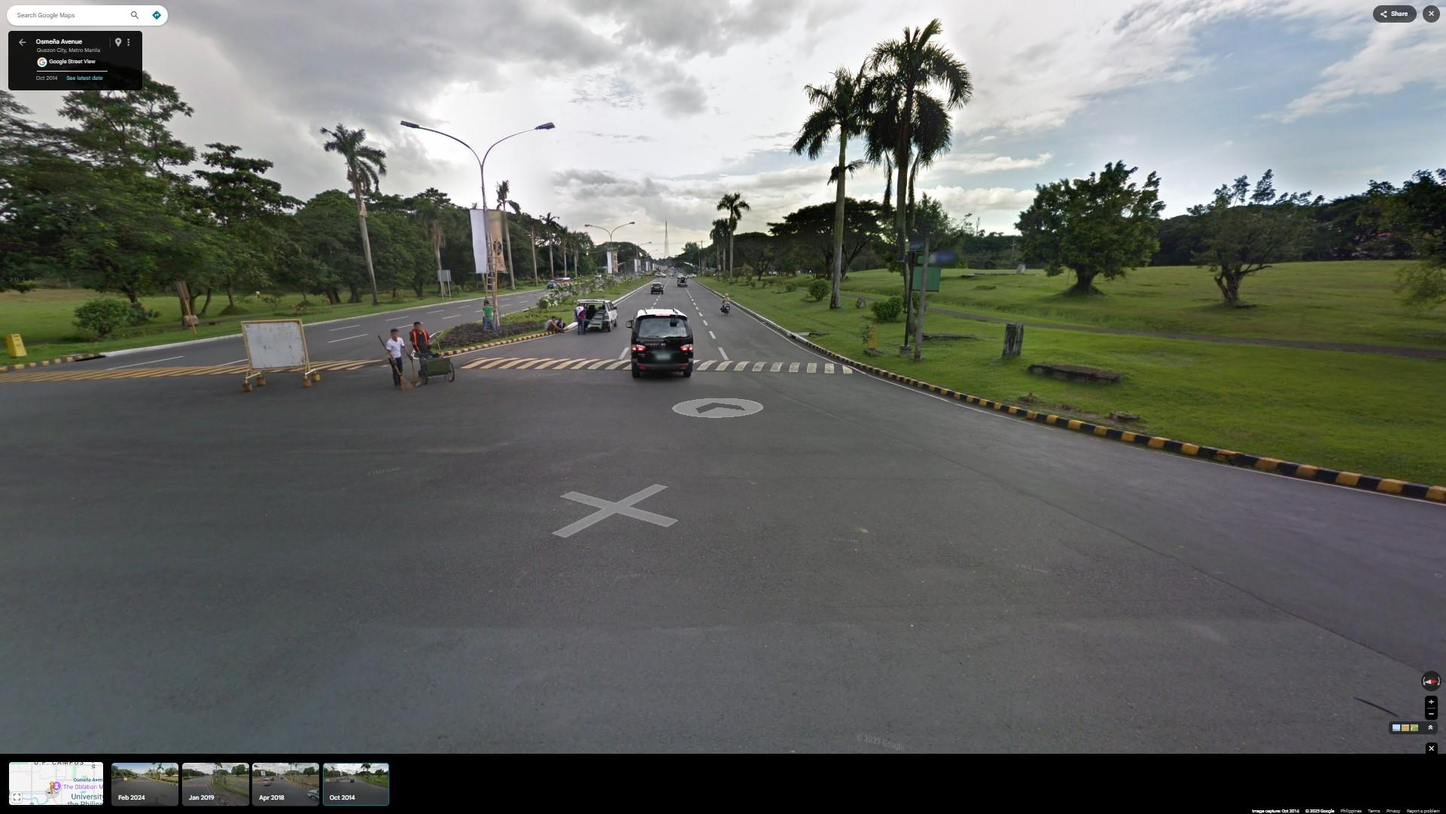pedestrian: (386, 329, 413, 390), (409, 321, 431, 383), (481, 299, 496, 334), (575, 302, 586, 336), (544, 316, 562, 332), (551, 317, 566, 333)
